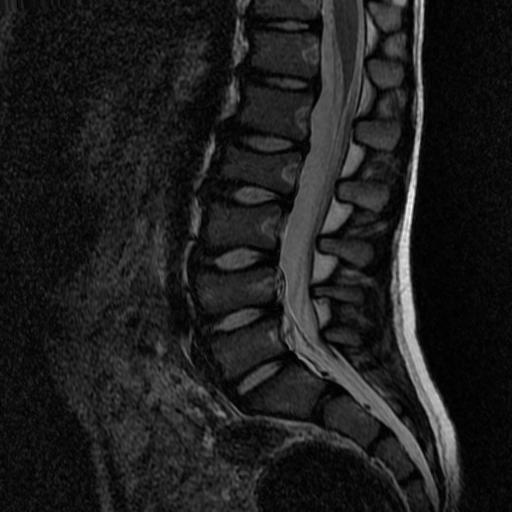D1: (219, 117, 310, 157)
